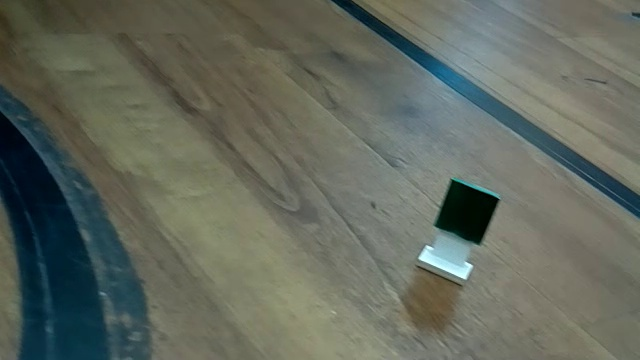rect: (398, 174, 524, 291)
